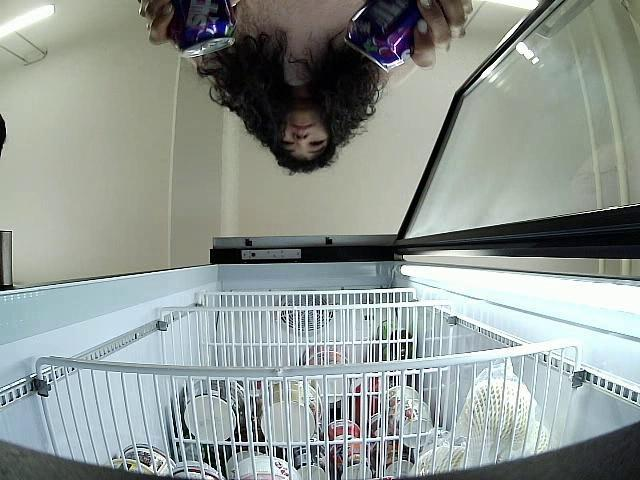14_welchsGrape: (340, 0, 430, 70), (160, 0, 234, 61)
